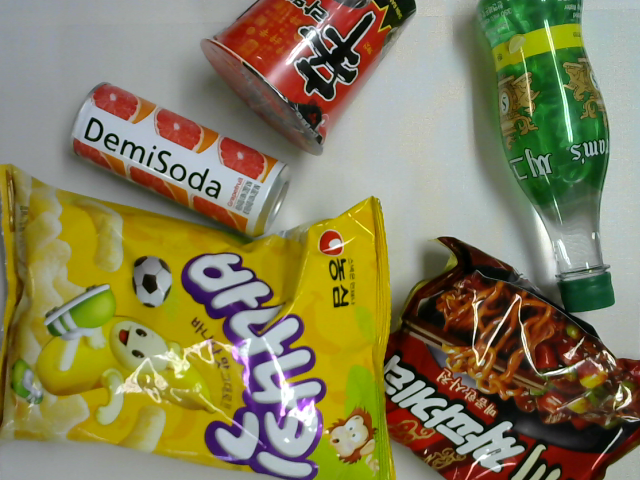Banana_Kick: (3, 162, 402, 480)
Demisoda_Grapefruit_Can_250ml: (65, 78, 294, 244)
Seagram_Lemon_Carbonated_Water: (468, 1, 618, 318)
Sichuan_Chapaghetti: (379, 234, 640, 479)
Sinramen_small: (195, 1, 419, 161)
